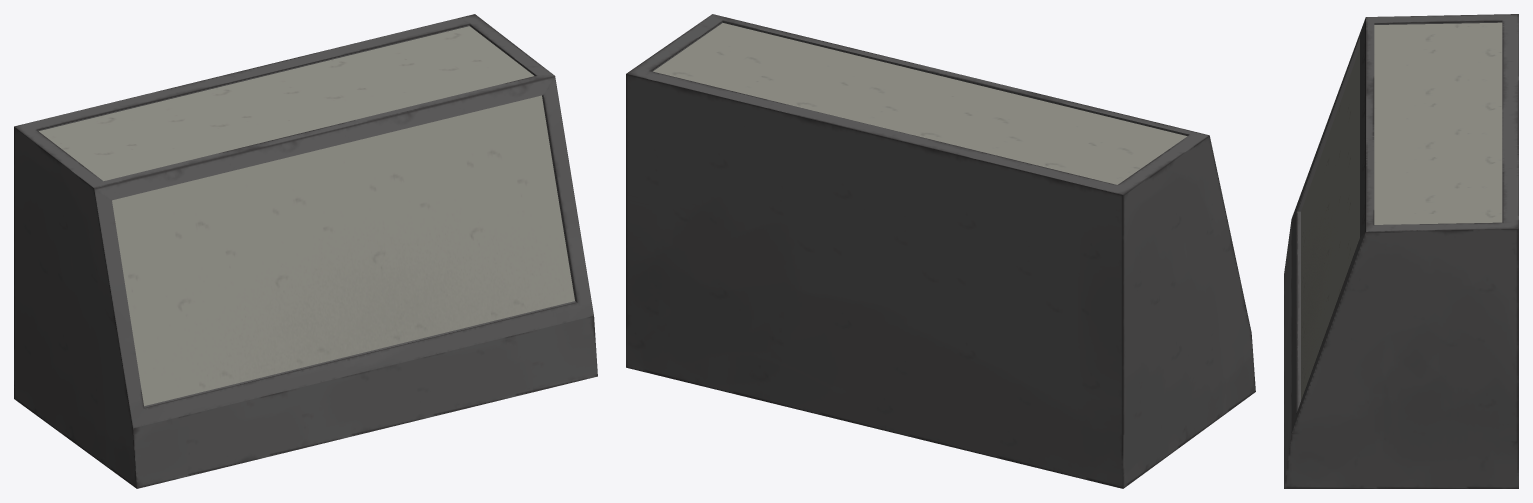
Rendered from Shelves2.fbx.
The picture shows the model from 3 angles, left to right: view 1: azimuth 30°, elevation 25°; view 2: azimuth 150°, elevation 25°; view 3: azimuth 270°, elevation 25°; orthographic projection. The views are drawn at different scales.
Parts seen in each view (by area): view 1: Shelves2; view 2: Shelves2; view 3: Shelves2.
Boxes of the visible parts, x1,y1,x2,y2 form: Shelves2: [14, 14, 597, 488]; Shelves2: [626, 14, 1255, 488]; Shelves2: [1284, 14, 1518, 488].
Bounding box in the file's own units: 200 × 113 × 92.42.
